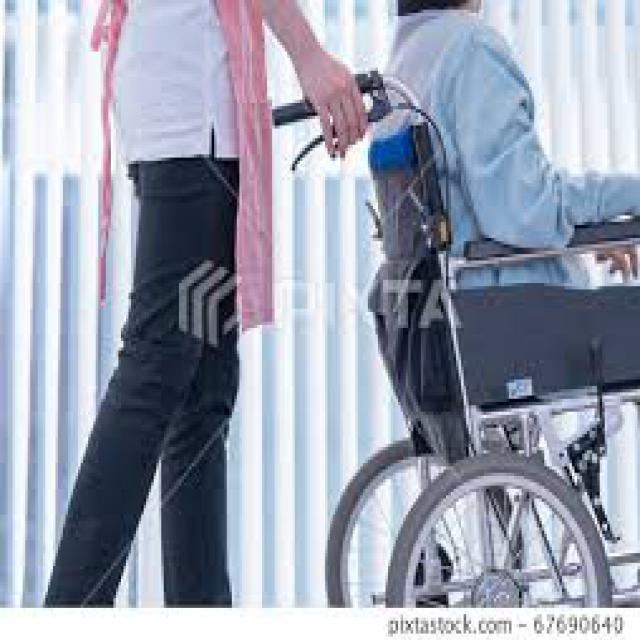wheelchairs: (267, 58, 638, 605)
